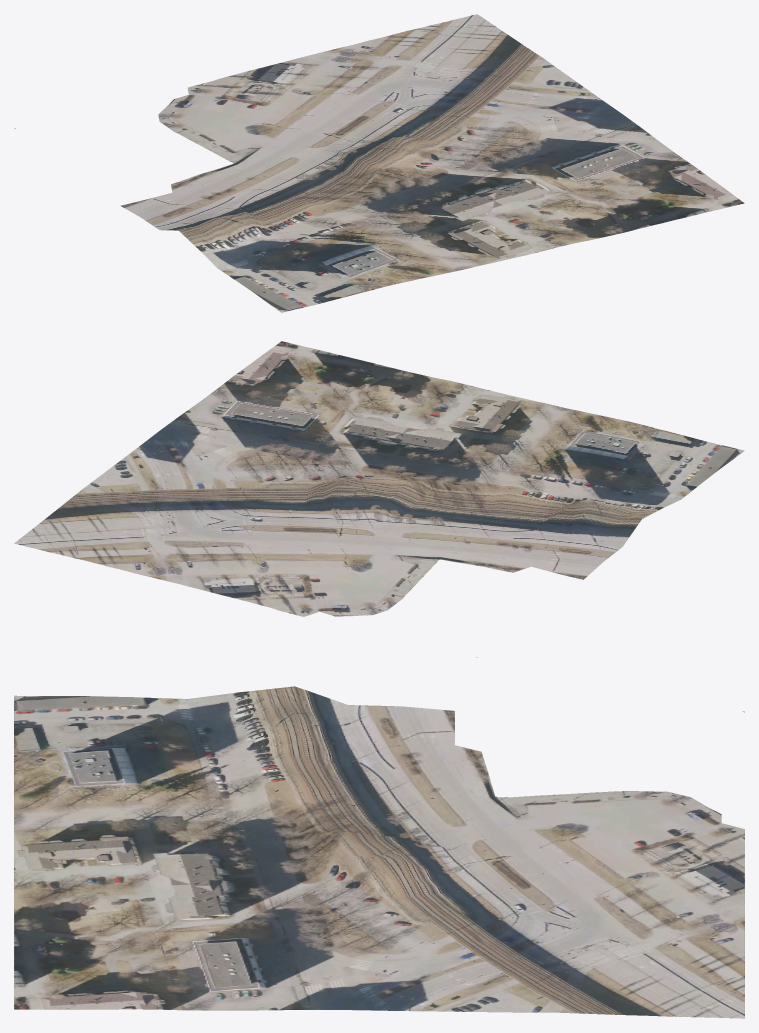
The model's file is CM_Terrain_24486363_6821432.fbx.
3 renders of one model, top to bottom at view 1: azimuth 30°, elevation 25°; view 2: azimuth 150°, elevation 25°; view 3: azimuth 270°, elevation 25°, orthographic. The views are drawn at different scales.
Parts seen in each view (by area): view 1: CM_Terrain_24486363_6821432_LOD0; view 2: CM_Terrain_24486363_6821432_LOD0; view 3: CM_Terrain_24486363_6821432_LOD0.
Boxes of the visible parts, x1,y1,x2,y2 form: CM_Terrain_24486363_6821432_LOD0: (14,14,744,312); CM_Terrain_24486363_6821432_LOD0: (14,341,744,657); CM_Terrain_24486363_6821432_LOD0: (14,686,744,1018).
Size of what is drawn, in the model's own units: 205 by 9.97 by 205.
